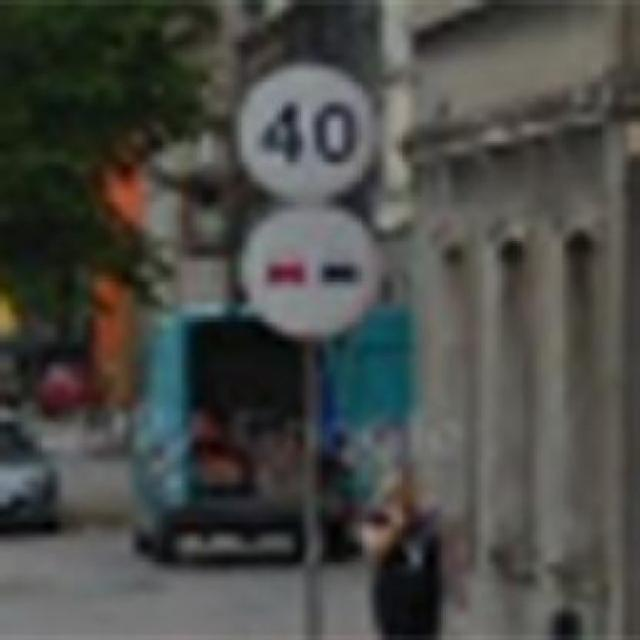Zakaz wyprzedzania: (236, 200, 382, 338)
